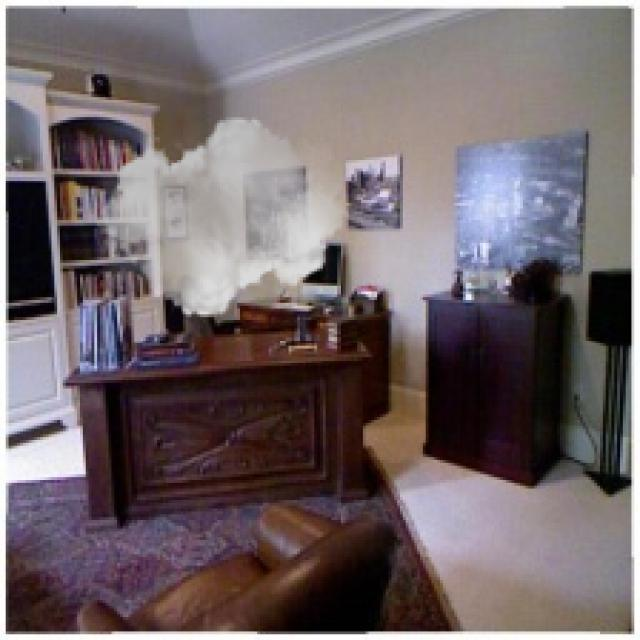Smoke: (94, 108, 349, 326)
